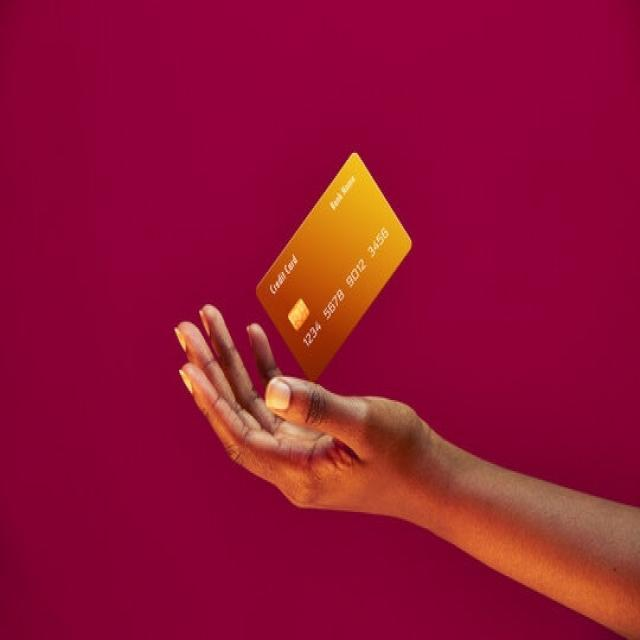payment_card: (253, 150, 412, 382)
